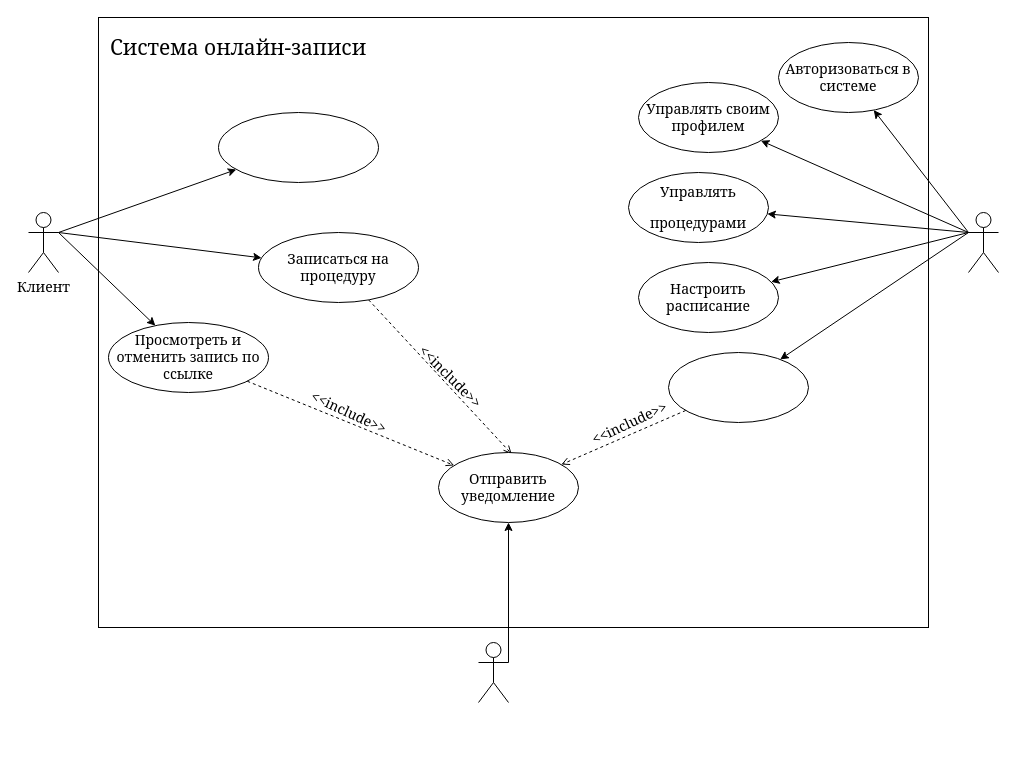
Some shapes in this 1027 by 763 pixel diagram are drawn without their labels. Each missing label, with the centre of its shape:
"Мастер" belongs at (x=983, y=242).
"Планировщик задач" belongs at (x=493, y=672).
"Связаться с мастером" belongs at (x=298, y=147).
"Управлять записями" belongs at (x=738, y=387).
